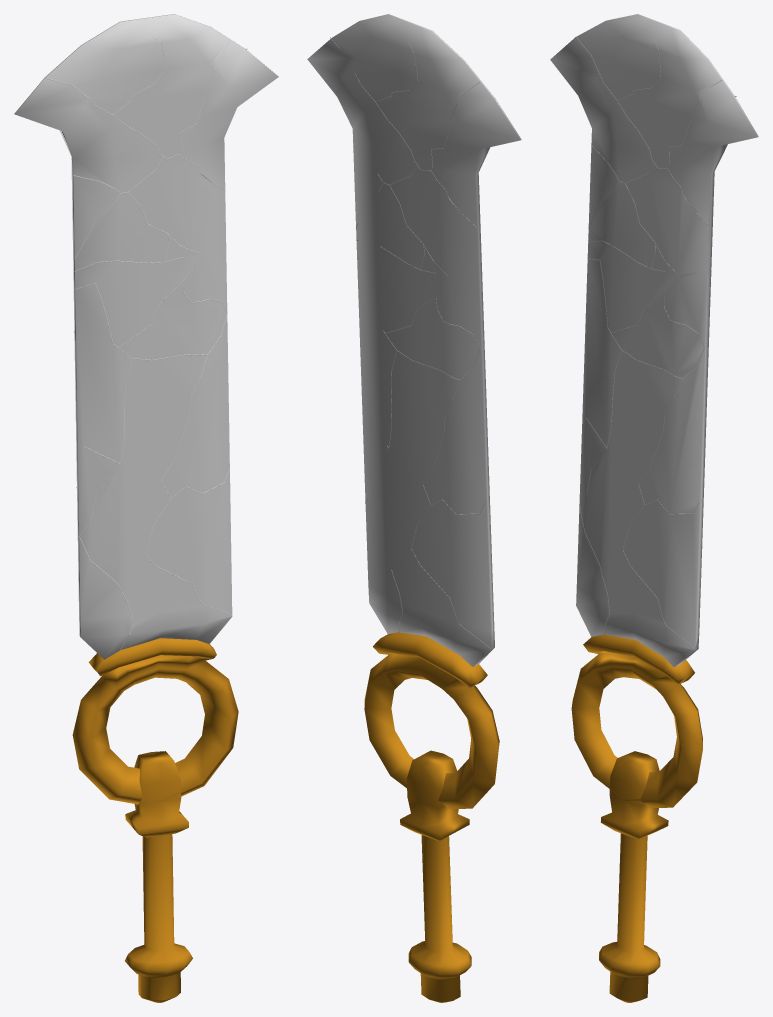
File: klc3.fbx
3 views of the same model, side by side, from view 1: azimuth 30°, elevation 25°; view 2: azimuth 150°, elevation 25°; view 3: azimuth 330°, elevation 25° (orthographic). The views are drawn at different scales.
Visible parts, largest first — view 1: klc3, sap, Cube.001; view 2: klc3, sap, Cube.002; view 3: klc3, sap, Cube.001.
Part boxes in pixels (<box>): klc3: <box>14,14,278,659</box>; sap: <box>72,638,238,1002</box>; Cube.001: <box>45,36,232,650</box>; klc3: <box>307,14,521,666</box>; sap: <box>364,632,499,1002</box>; Cube.002: <box>330,37,490,648</box>; klc3: <box>550,14,758,666</box>; sap: <box>571,634,702,1002</box>; Cube.001: <box>575,37,721,649</box>.
Bounding box in the file's own units: 132 × 515 × 45.6.
